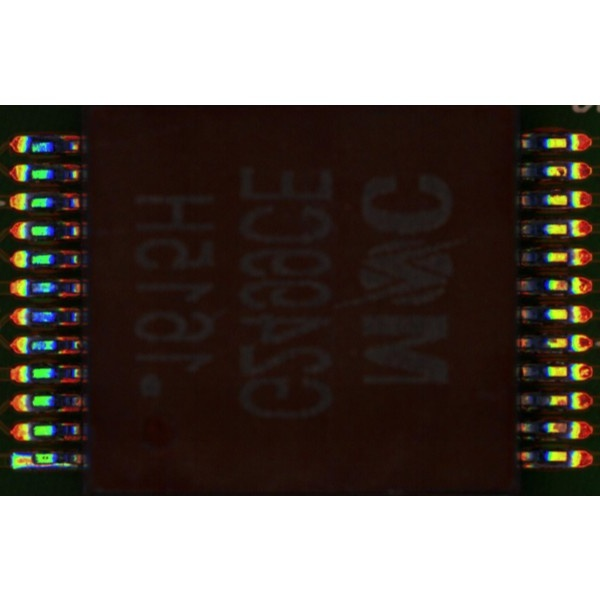Bad_podu: (24, 456, 41, 464)
Bad_qiaojiao: (34, 464, 73, 468)
